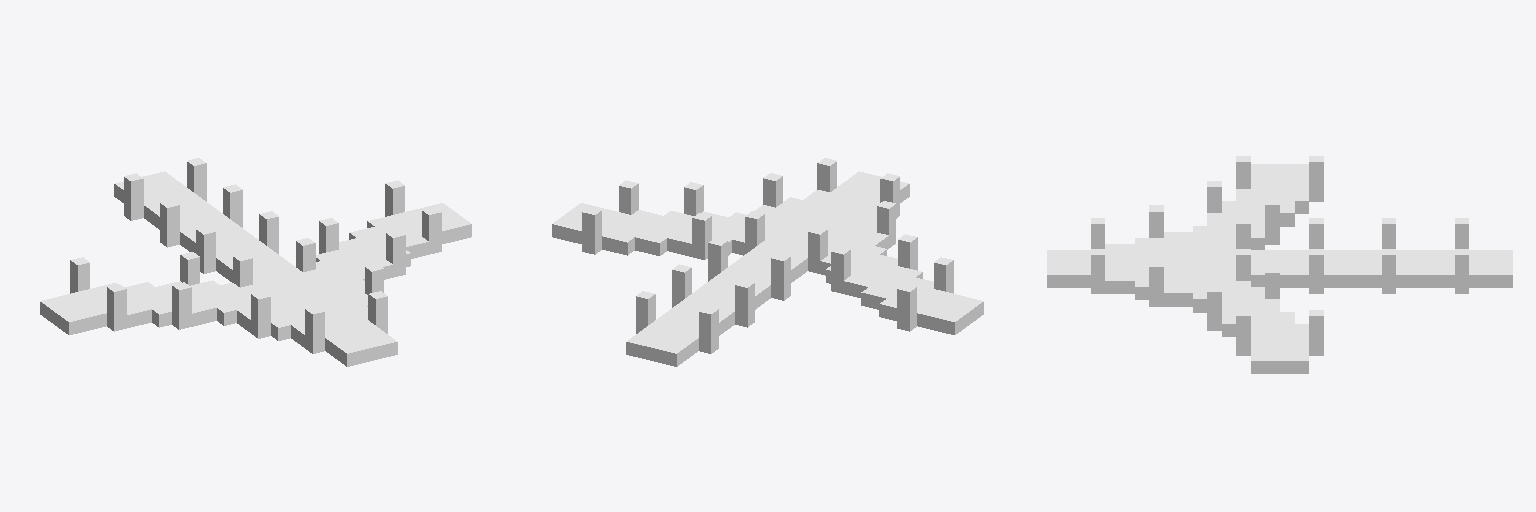
File: crossroad6.obj
3 renders of one model, left to right at view 1: azimuth 30°, elevation 25°; view 2: azimuth 150°, elevation 25°; view 3: azimuth 270°, elevation 25°, orthographic.
Parts seen in each view (by area): view 1: object 1; view 2: object 1; view 3: object 1.
Part boxes in pixels (left/top/right/bottom): object 1: left=40, top=158, right=471, bottom=366; object 1: left=552, top=158, right=983, bottom=366; object 1: left=1047, top=156, right=1512, bottom=373.
Bounding box in the file's own units: 3.2 × 0.3 × 3.2.